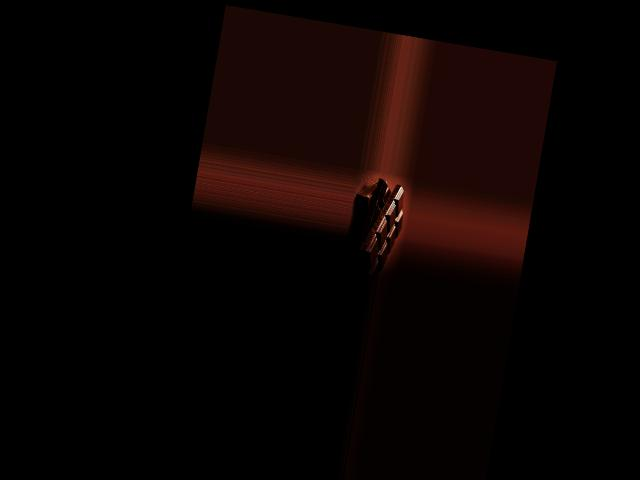chocolate: (350, 176, 408, 275)
